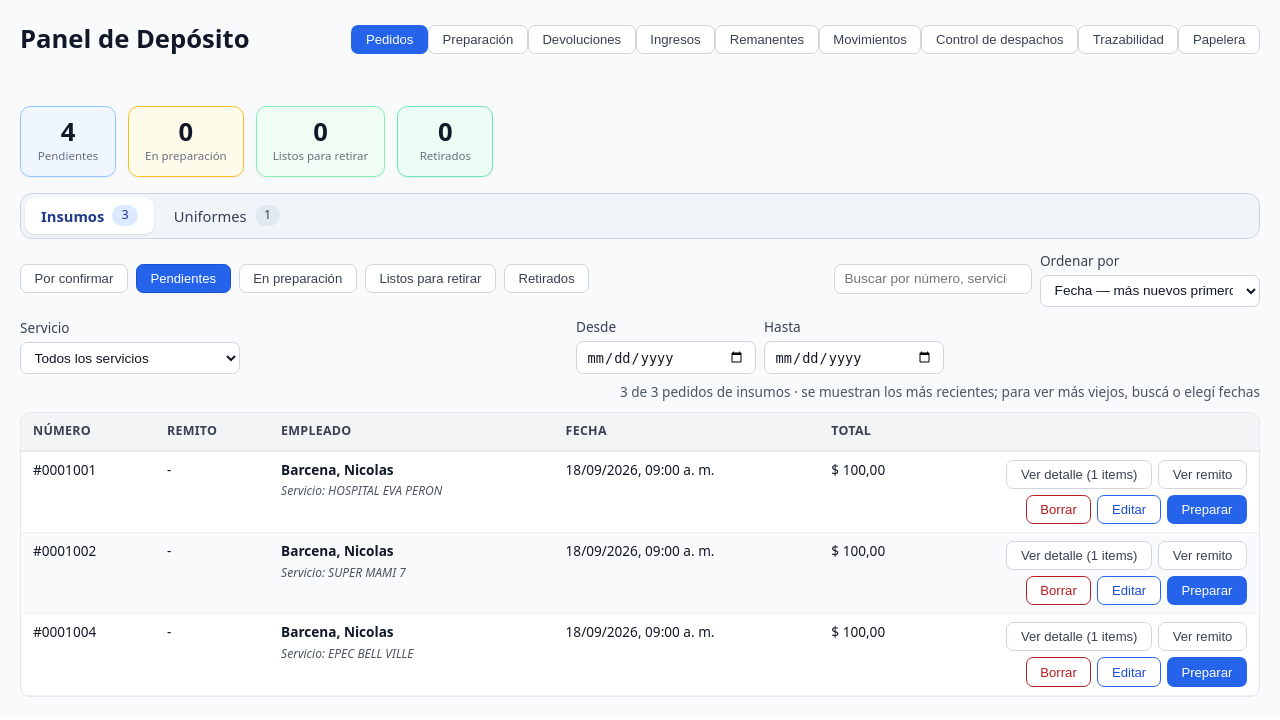
it: Depósito — uniformes e insumos separados › al pasar a uniformes muestra sólo esos
The image size is (1280, 720).
Expected: the element named "Tipo de pedido" is shown, [20, 193, 1260, 239]
Expected: the text "#0001001" is shown, [21, 451, 155, 532]
Click the button "Uniformes 1" at (227, 216), box [158, 198, 296, 234]
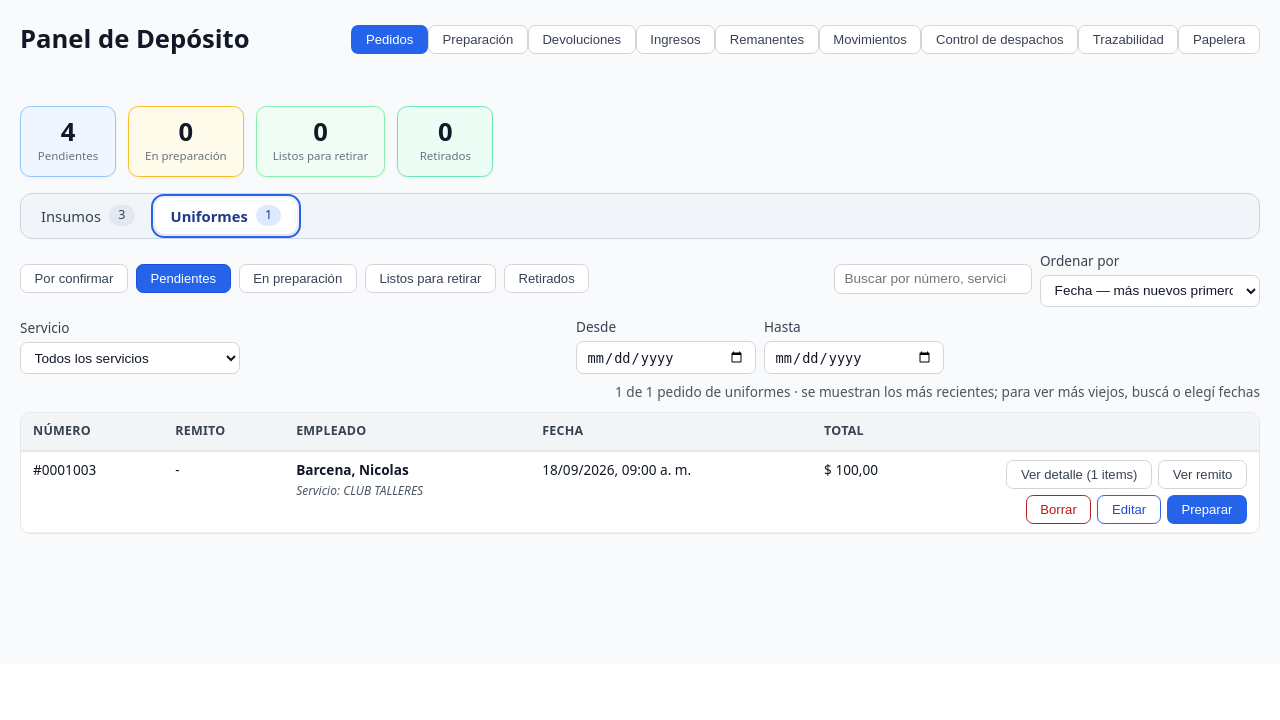
Now the text "#0001003" is shown, box [21, 451, 163, 532]
Now the text "#0001001" is gone
Now the text "1 de 1 pedido de uniformes" is shown, box [615, 382, 1260, 402]
